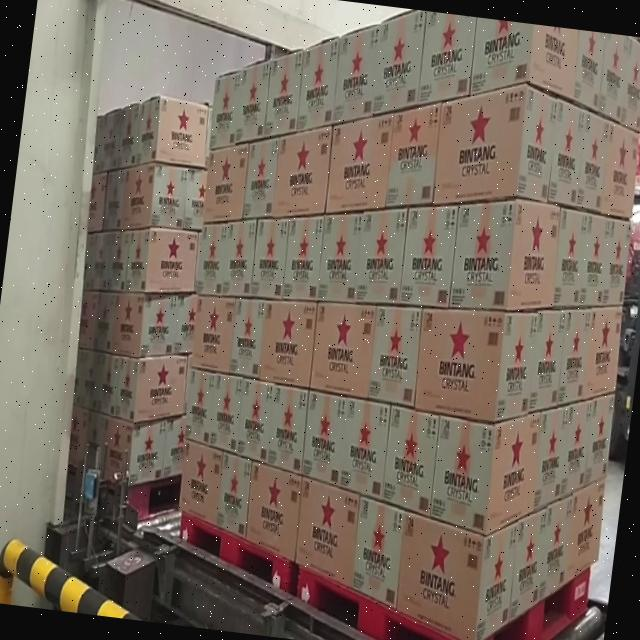pallet: (283, 2, 640, 640), (151, 18, 364, 610), (42, 51, 242, 534)
